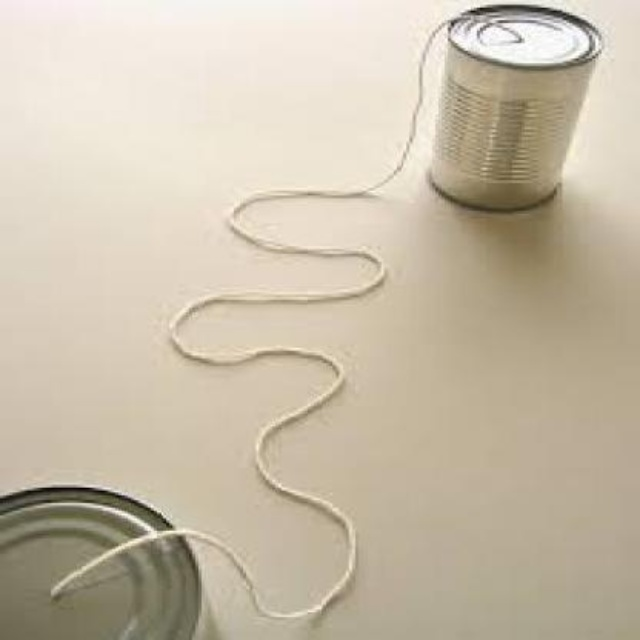trash: (431, 5, 600, 208), (0, 486, 198, 638)
